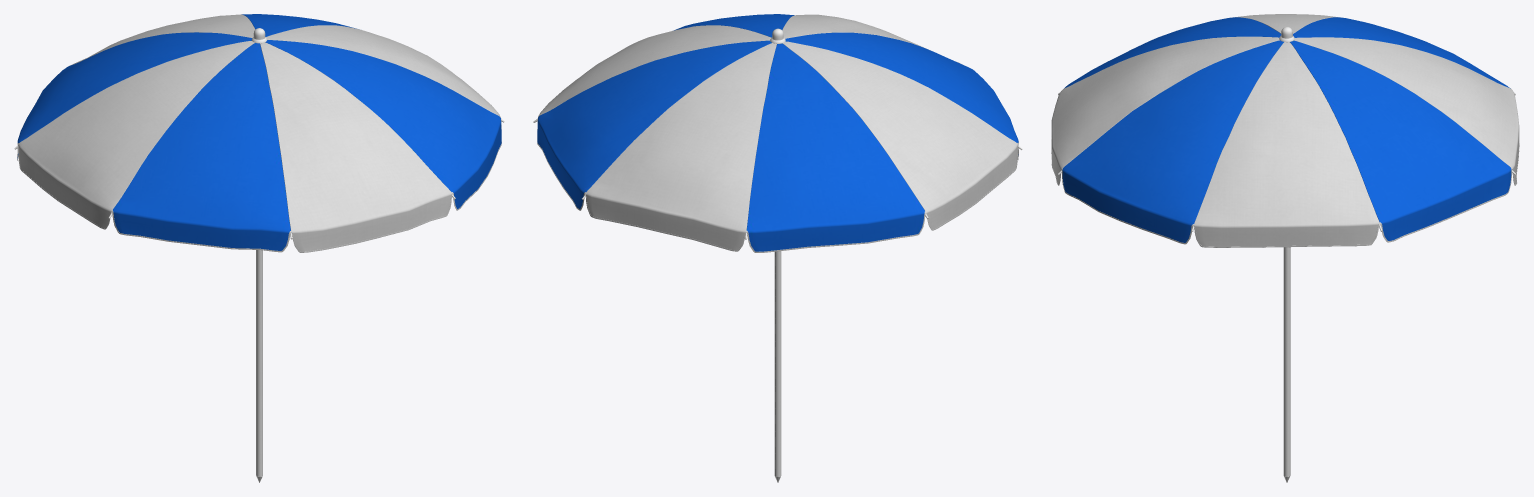
File: decor_furniture_Umbrella1.glb
3 renders of one model, left to right at view 1: azimuth 30°, elevation 25°; view 2: azimuth 150°, elevation 25°; view 3: azimuth 270°, elevation 25°, orthographic.
Visible parts, largest first — view 1: fabric, part_1; view 2: fabric, part_1; view 3: fabric, part_1.
Part boxes in pixels (box(x1,y1,x2,y2)): fabric: box(17, 14, 501, 252); part_1: box(256, 250, 262, 476); fabric: box(537, 14, 1018, 252); part_1: box(774, 251, 781, 476); fabric: box(1051, 14, 1519, 247); part_1: box(1283, 247, 1290, 476).
Bounding box in the file's own units: 1.6 × 1.72 × 1.6.
Materials: 1 (1 with a texture image).
